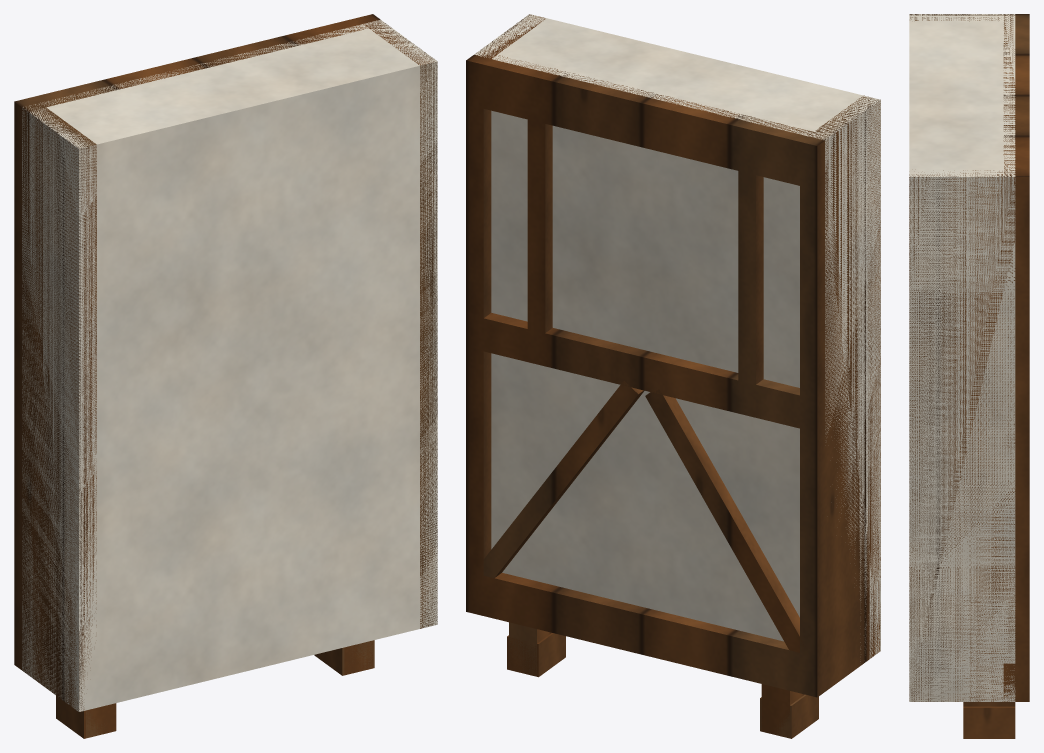
The model's file is wall_timber_2x3.glb.
3 renders of one model, left to right at view 1: azimuth 30°, elevation 25°; view 2: azimuth 150°, elevation 25°; view 3: azimuth 270°, elevation 25°, orthographic. The views are drawn at different scales.
Parts seen in each view (by area): view 1: wall_timber_2x3; view 2: wall_timber_2x3; view 3: wall_timber_2x3.
Boxes of the visible parts, x1,y1,x2,y2 form: wall_timber_2x3: [14, 14, 437, 738]; wall_timber_2x3: [466, 14, 880, 738]; wall_timber_2x3: [909, 14, 1029, 738].
Bounding box in the file's own units: 2 × 3.3 × 0.625.
Materials: 2 (2 with a texture image).
